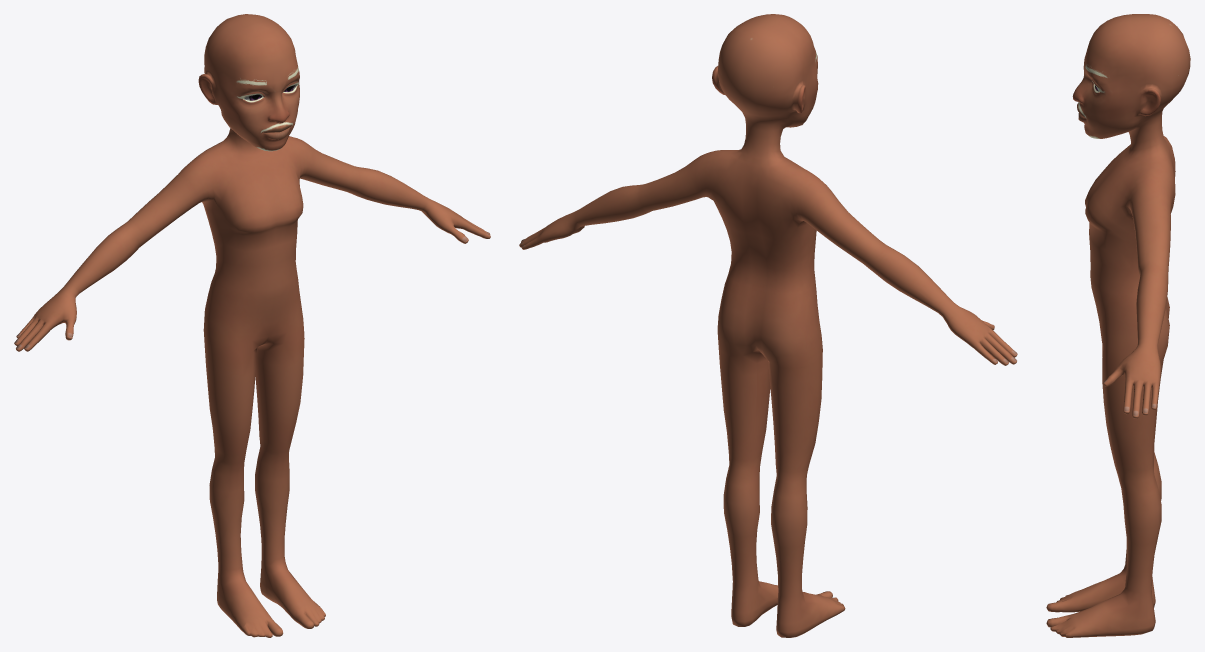
File: frame_0023.glb
3 views of the same model, side by side, from view 1: azimuth 30°, elevation 25°; view 2: azimuth 150°, elevation 25°; view 3: azimuth 270°, elevation 25° (orthographic). The views are drawn at different scales.
Visible parts, largest first — view 1: frame_0023_head_geo; view 2: frame_0023_head_geo; view 3: frame_0023_head_geo.
Part boxes in pixels (box(x1,y1,x2,y2)): frame_0023_head_geo: box(14, 14, 490, 637); frame_0023_head_geo: box(519, 14, 1017, 637); frame_0023_head_geo: box(1046, 14, 1190, 637).
Bounding box in the file's own units: 1.28 × 1.5 × 0.3253.
Materials: 3 (3 with a texture image).
